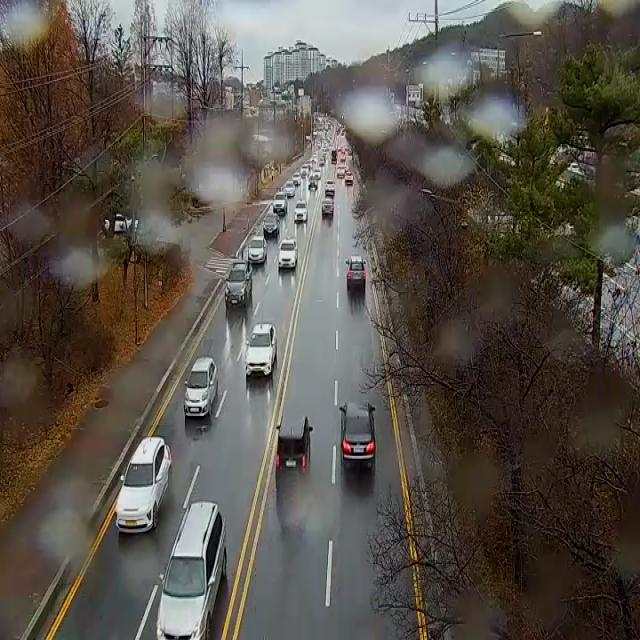Car: (156, 501, 227, 640), (116, 436, 172, 534), (340, 402, 375, 468), (276, 416, 313, 478), (185, 357, 218, 417), (246, 323, 277, 376), (225, 260, 252, 306), (346, 256, 366, 288), (278, 238, 298, 268), (105, 214, 138, 231), (248, 236, 267, 263), (263, 213, 280, 237), (272, 192, 288, 212), (294, 201, 308, 221), (322, 198, 334, 214), (284, 181, 296, 196), (325, 180, 335, 195), (308, 176, 317, 191), (292, 173, 302, 186), (345, 172, 353, 184), (301, 167, 308, 178), (338, 166, 344, 177), (312, 170, 320, 178), (319, 158, 324, 166), (345, 165, 349, 172)
